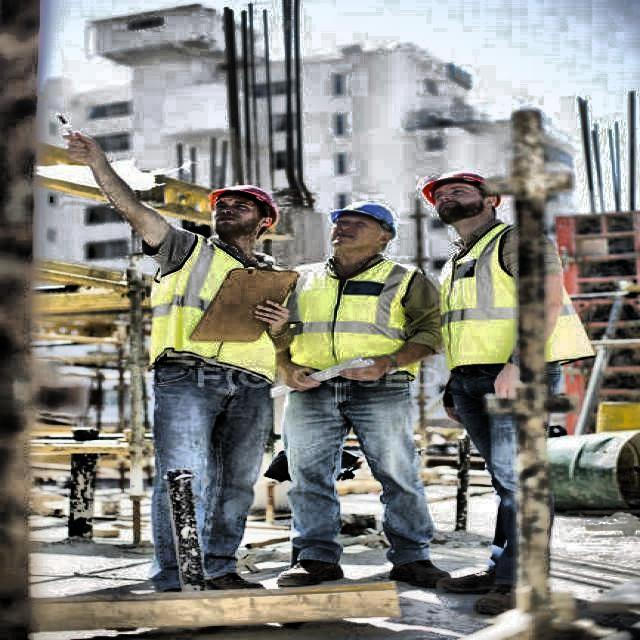safety_helmet: (420, 169, 502, 208), (209, 183, 278, 227), (329, 200, 397, 239)
safety_jacket: (438, 224, 596, 371), (149, 232, 277, 383), (284, 260, 420, 382)
